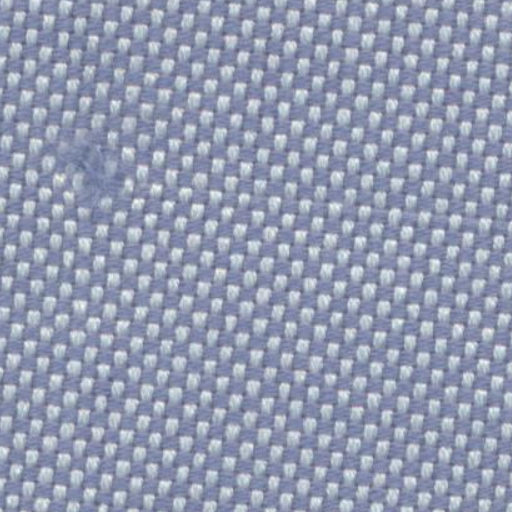MianQiu: (36, 116, 154, 250)
